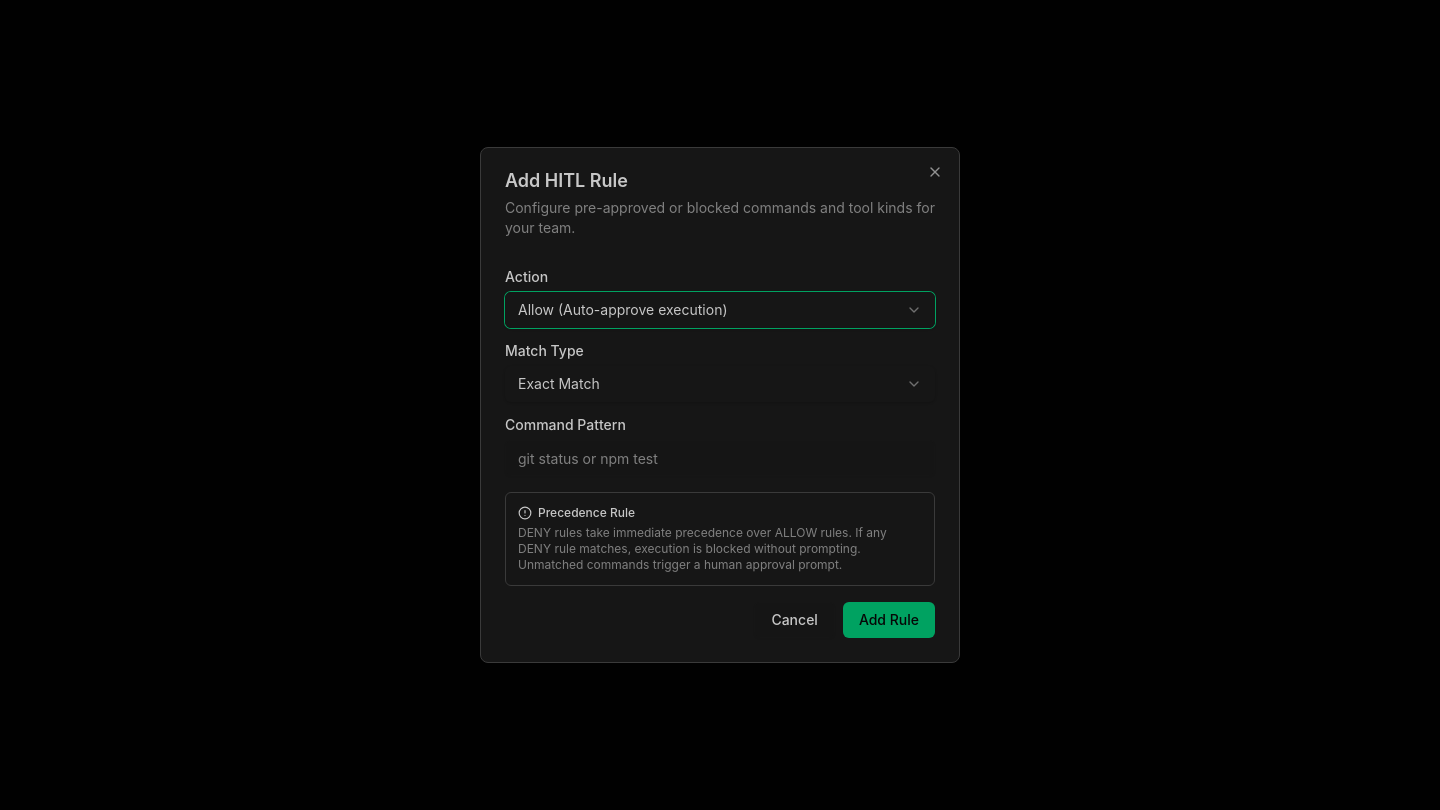
Scenario: CreateHitlRuleDialog › validates missing tool kind selection
Click the dropdown named "Match Type": (559, 384) [505,366,935,402]
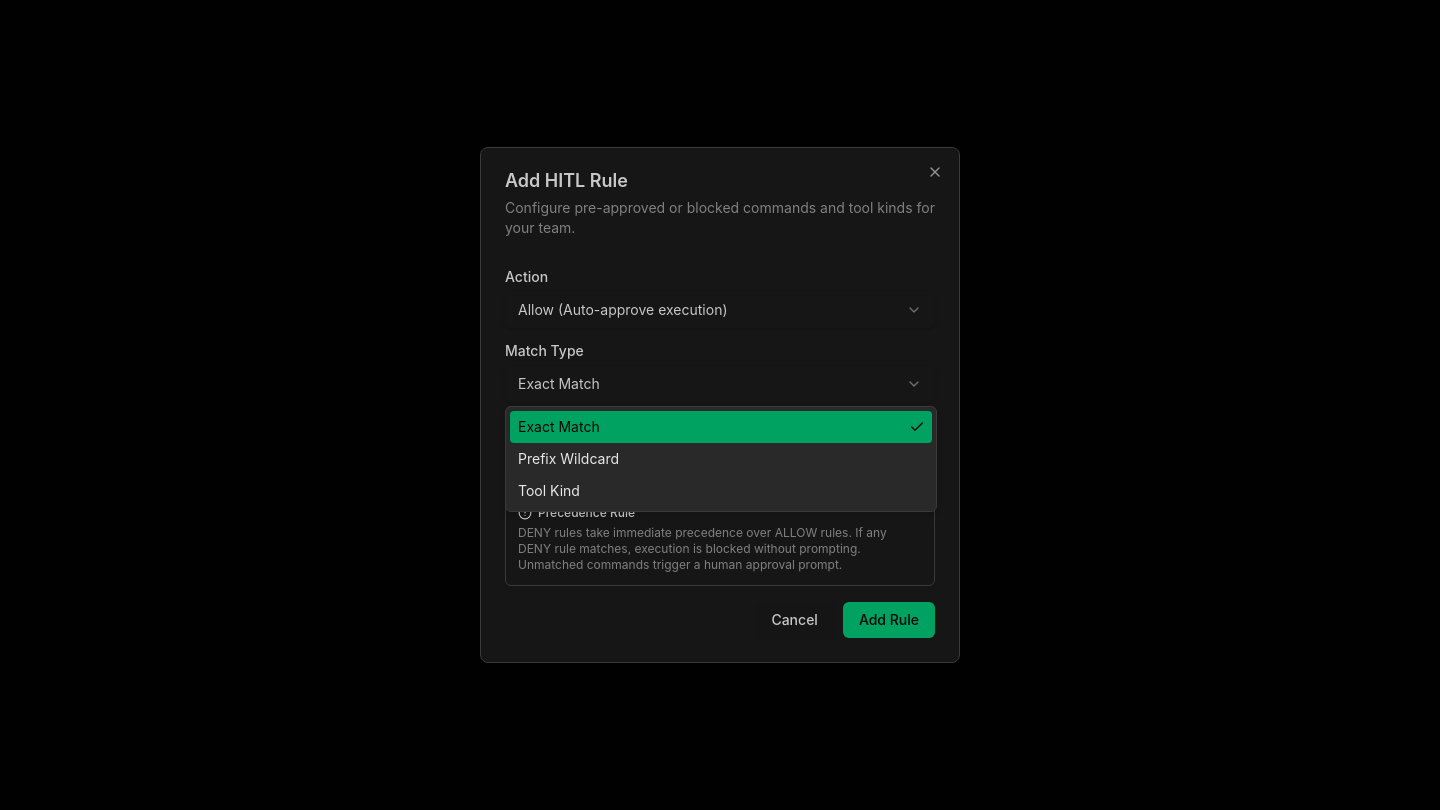
Click the option "Tool Kind": (549, 490) [518,482,580,499]
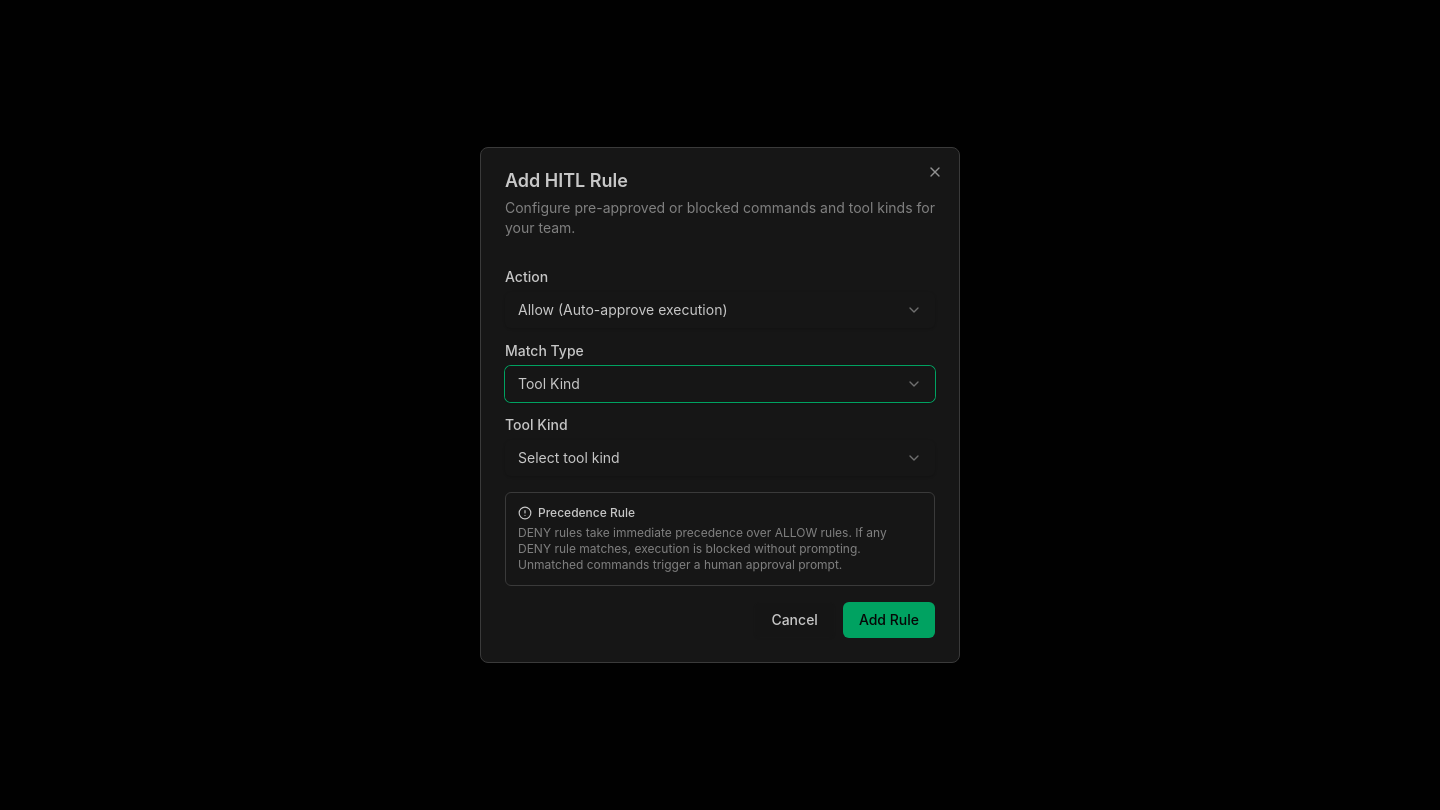
Click the button "Add Rule": (889, 620) [843,602,935,638]
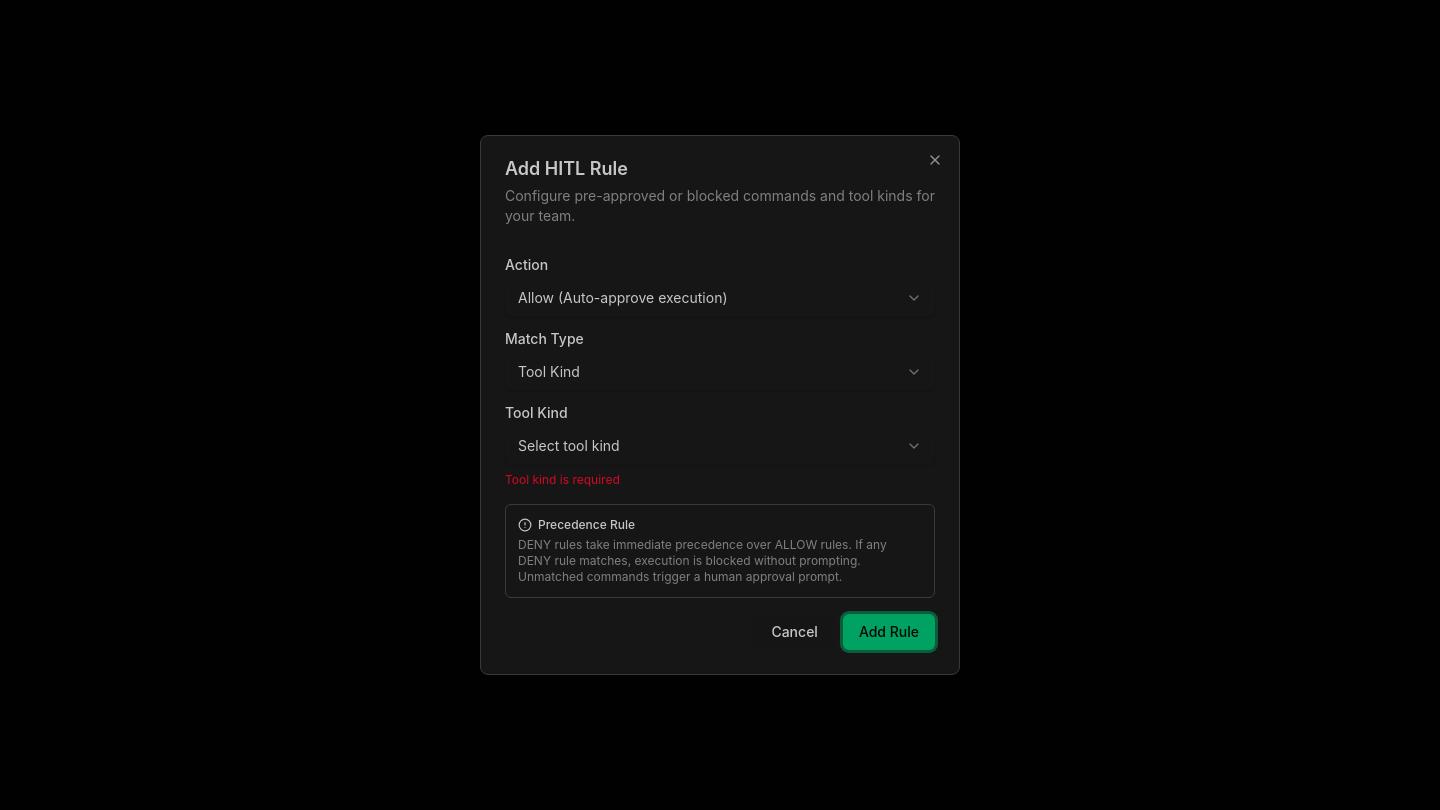
Expected: the text "Tool kind is required" is shown, [505,472,620,487]
